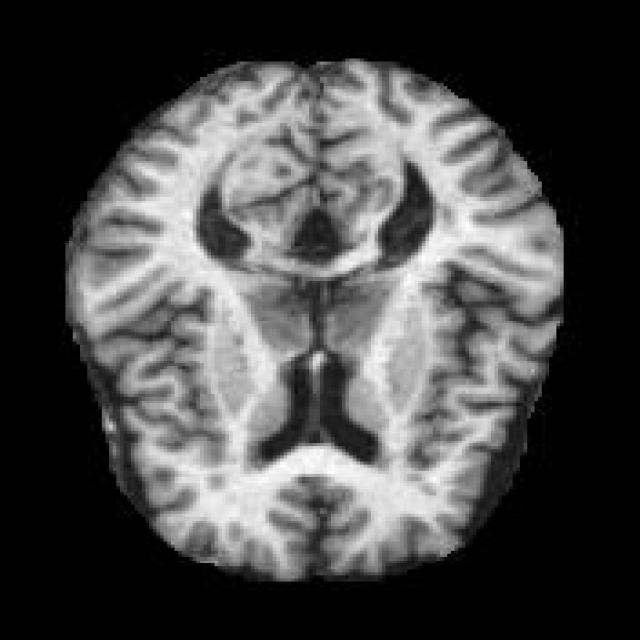Alzheimer: (62, 52, 567, 582)
